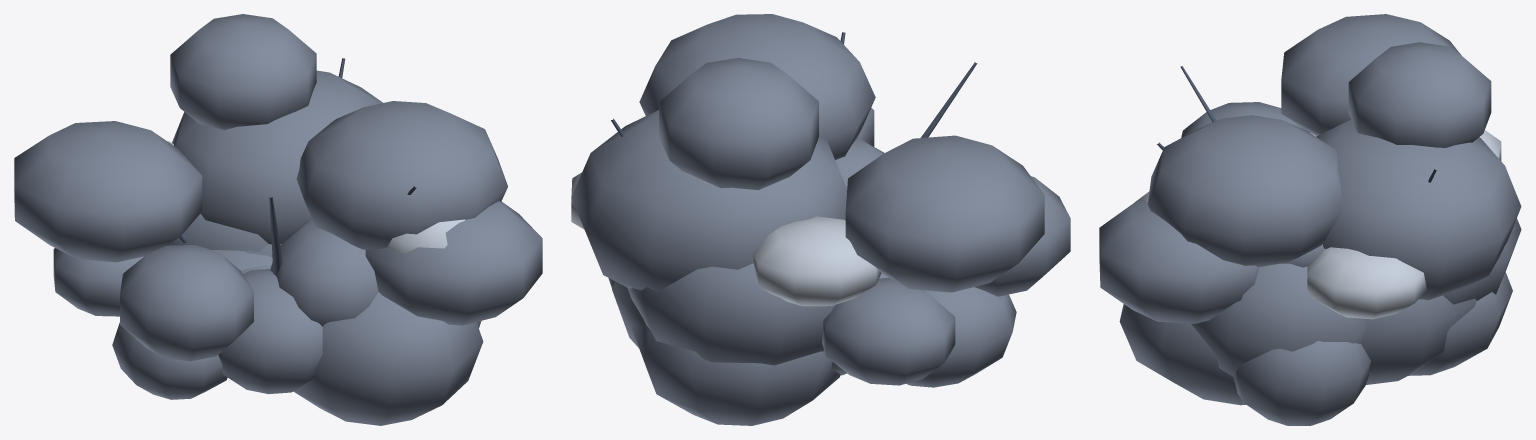
Rendered from 灌木丛-lite.glb.
3 views of the same model, side by side, from view 1: azimuth 30°, elevation 25°; view 2: azimuth 150°, elevation 25°; view 3: azimuth 270°, elevation 25° (orthographic). The views are drawn at different scales.
Parts seen in each view (by area): view 1: garden-shrub-leaf, garden-shrub-light, garden-shrub-branch; view 2: garden-shrub-leaf, garden-shrub-light, garden-shrub-branch; view 3: garden-shrub-leaf, garden-shrub-light.
Boxes of the visible parts, <box> form: garden-shrub-leaf: <box>14,14,542,425</box>; garden-shrub-light: <box>167,141,465,254</box>; garden-shrub-branch: <box>178,58,416,274</box>; garden-shrub-leaf: <box>571,14,1070,425</box>; garden-shrub-light: <box>571,172,881,306</box>; garden-shrub-branch: <box>611,32,977,137</box>; garden-shrub-leaf: <box>1099,14,1521,425</box>; garden-shrub-light: <box>1133,130,1501,319</box>.
Bounding box in the file's own units: 0.95 × 0.72 × 0.85.
